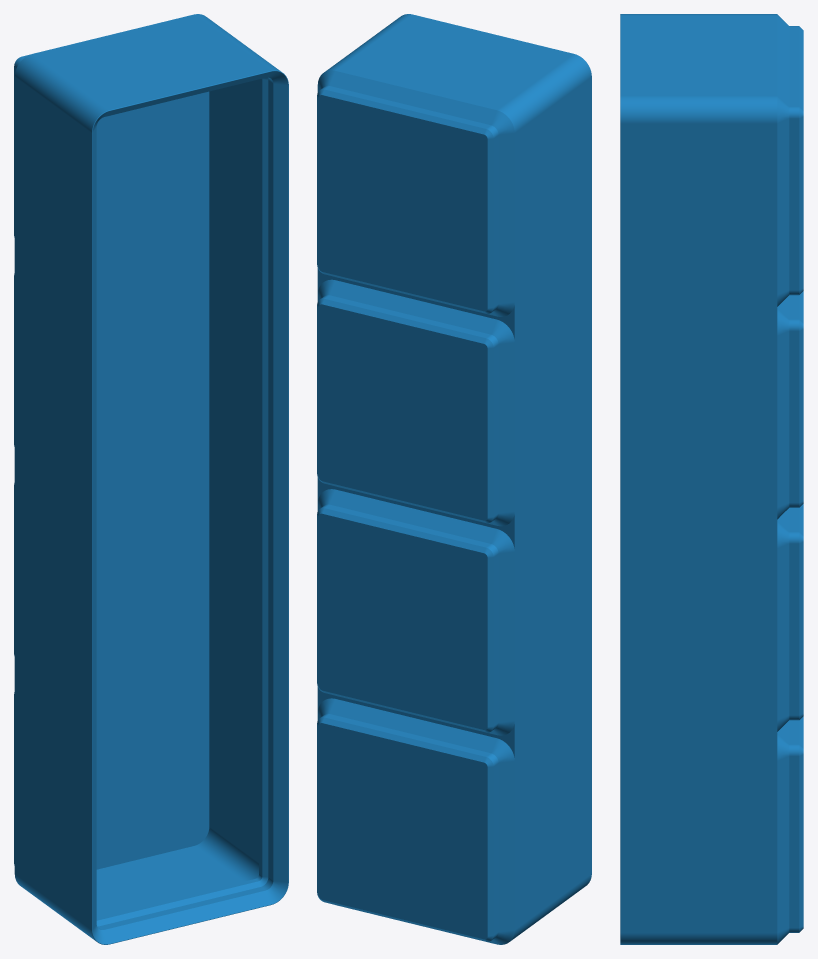
3 views of the same model, side by side, from view 1: azimuth 30°, elevation 25°; view 2: azimuth 150°, elevation 25°; view 3: azimuth 270°, elevation 25° (orthographic).
Visible parts, largest first — view 1: model; view 2: model; view 3: model.
Boxes of the visible parts, box(x1,y1,x2,y2) form: model: box(14, 14, 288, 944); model: box(317, 14, 591, 944); model: box(620, 14, 803, 944).
Bounding box in the file's own units: 0.0414 × 0.1674 × 0.0329.
